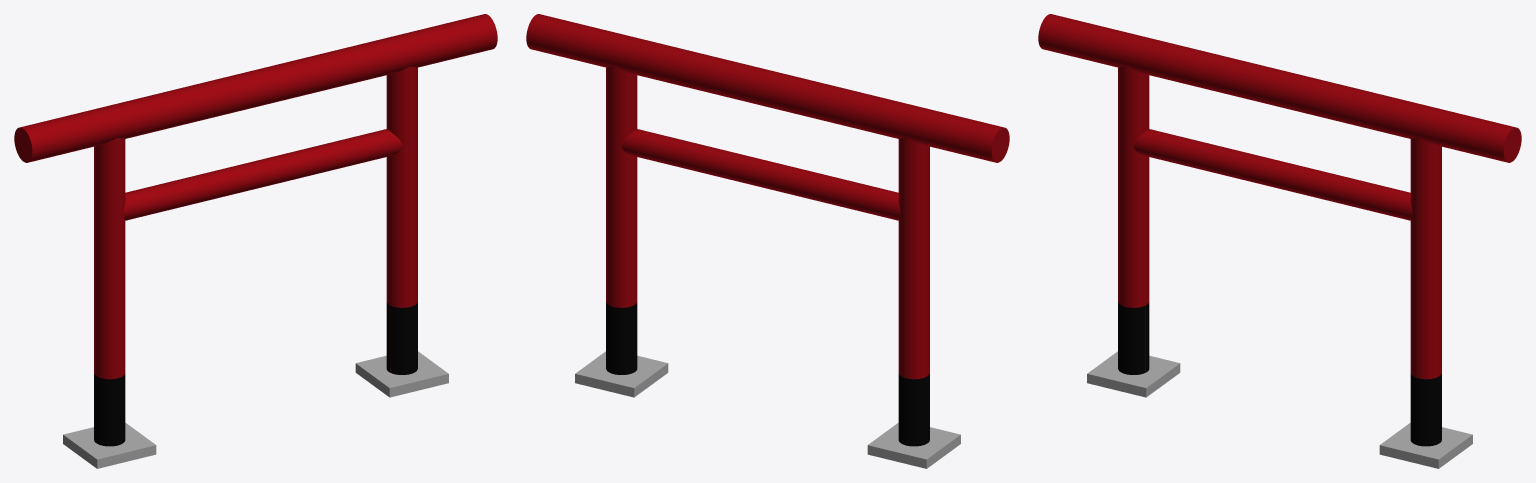
File: Shinmei_Flat_Red.fbx
3 views of the same model, side by side, from view 1: azimuth 30°, elevation 25°; view 2: azimuth 150°, elevation 25°; view 3: azimuth 330°, elevation 25° (orthographic).
Parts seen in each view (by area): view 1: Cube; view 2: Cube; view 3: Cube.
Boxes of the visible parts, x1,y1,x2,y2 form: Cube: (14, 14, 497, 468); Cube: (526, 14, 1009, 468); Cube: (1038, 14, 1521, 468).
Bounding box in the file's own units: 486 × 341 × 61.79.
